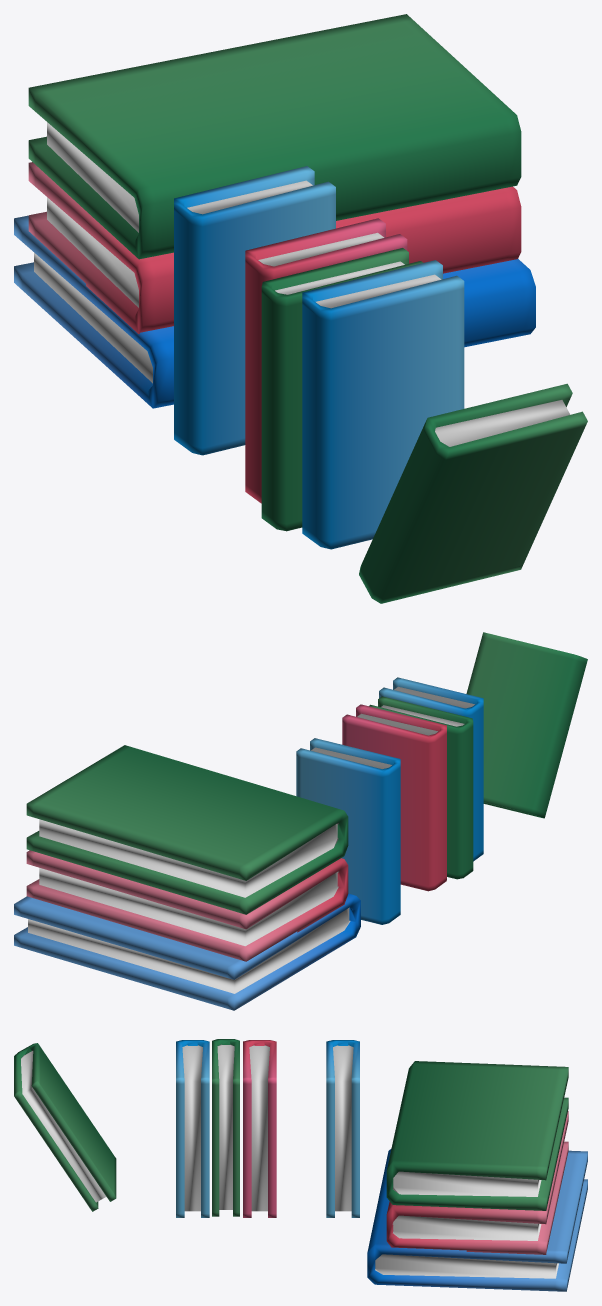
File: BookStack1.fbx
The picture shows the model from 3 angles, top to bottom: view 1: azimuth 30°, elevation 25°; view 2: azimuth 150°, elevation 25°; view 3: azimuth 270°, elevation 25°; orthographic projection. The views are drawn at different scales.
Parts seen in each view (by area): view 1: Cube.008; view 2: Cube.008; view 3: Cube.008.
Boxes of the visible parts, x1,y1,x2,y2 form: Cube.008: (14,14,587,603); Cube.008: (14,632,587,1010); Cube.008: (14,1039,587,1291).
Size of the model in its own units: 68.47 by 36.85 by 138.
